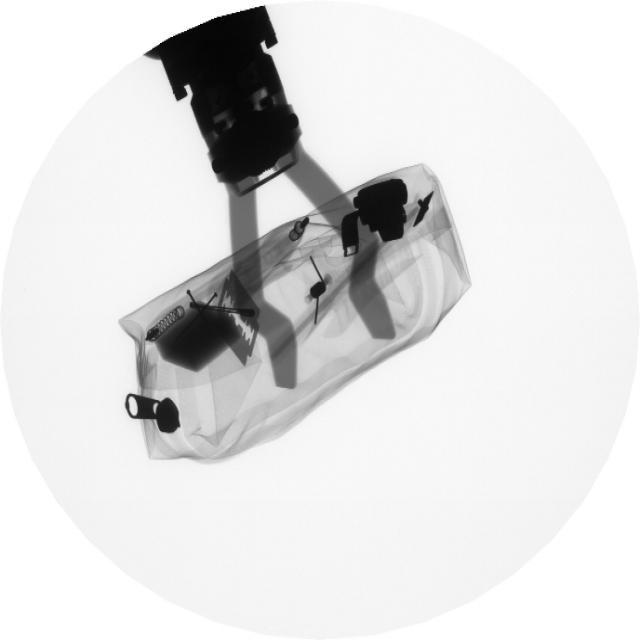BLADE: (213, 264, 268, 369)
